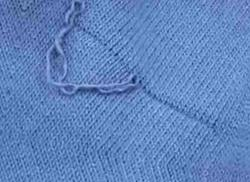snag: (102, 67, 147, 98)
